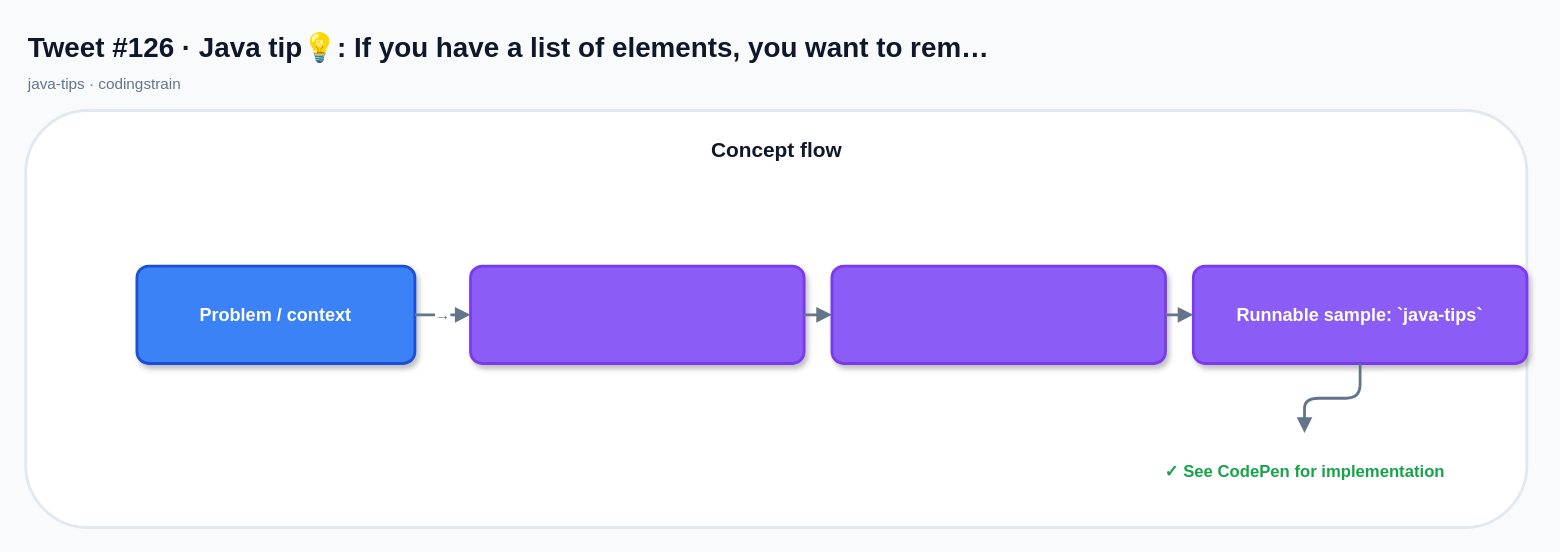
The diagram is 1560 pixels wide and 552 high, and some of its shapes have lost their labels. Here are the shapes that lost their labels. From the top down, the centre of each, then its label:
the point at 638,316: 💡 Java tip💡: If you have a list of elements, you want to remove duplic
the point at 999,316: #Java #Collections
